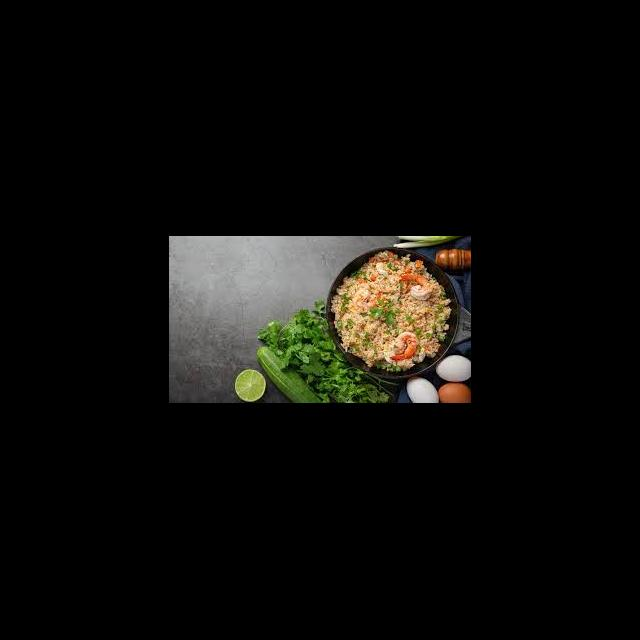food_waste: (357, 276, 433, 346)
